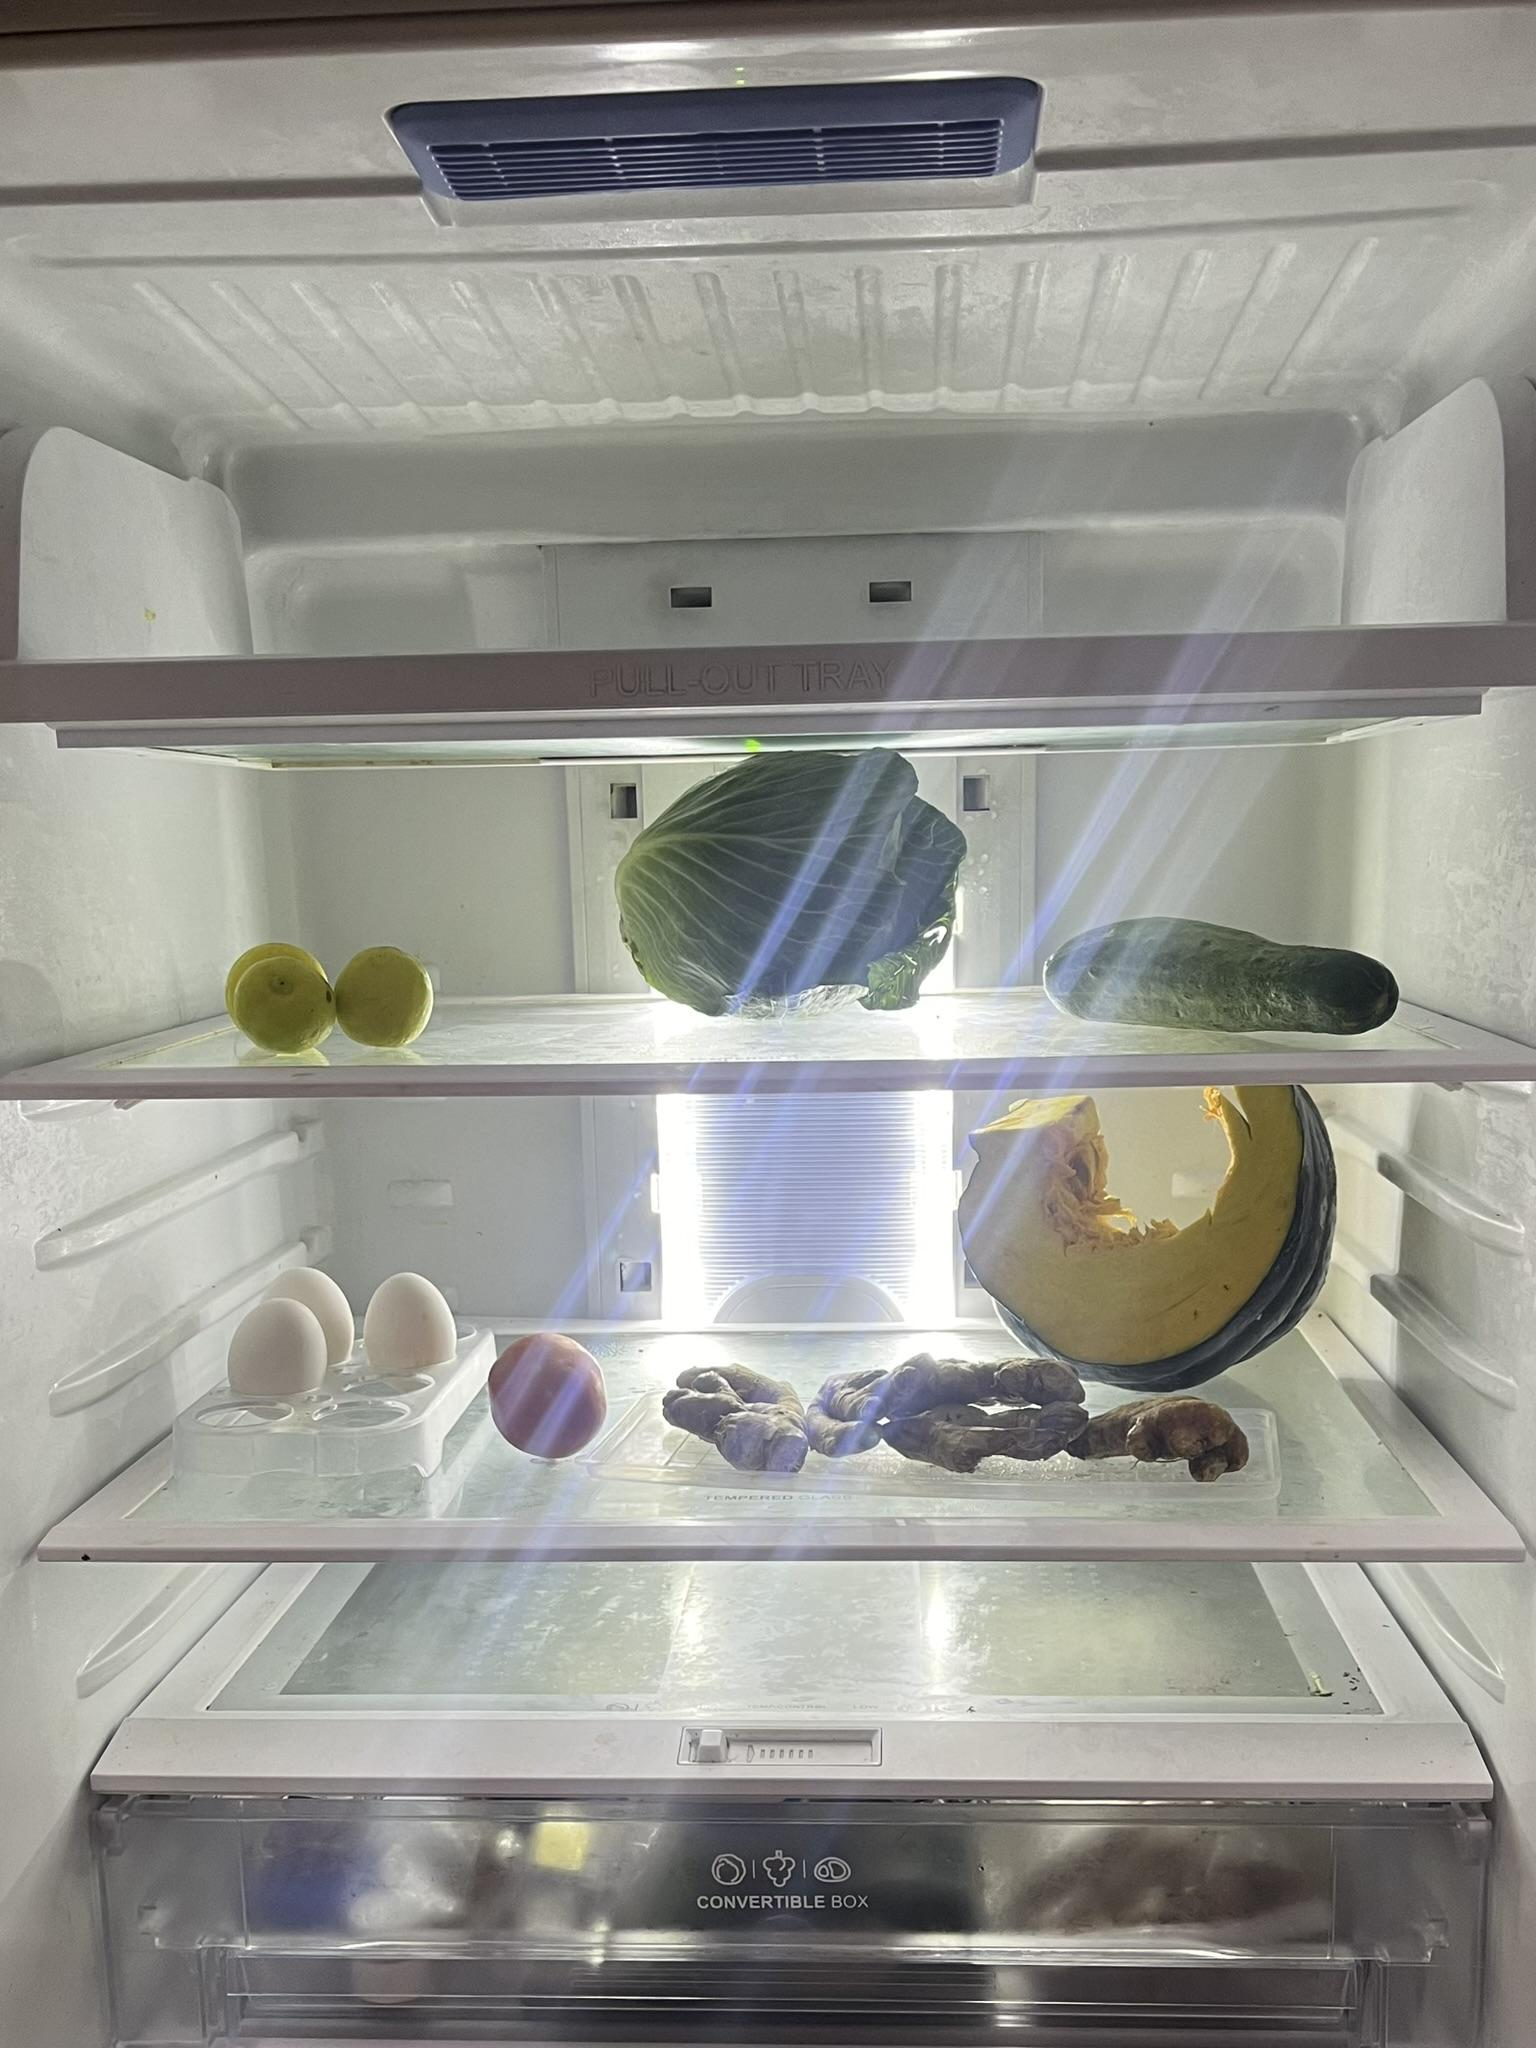cucumber: (1041, 916, 1420, 1037)
egg: (226, 1259, 457, 1403)
ginger: (657, 1356, 1263, 1477)
lemon: (587, 737, 983, 1006), (226, 937, 447, 1053)
pumpkin: (957, 1080, 1344, 1359)
tomato: (470, 1327, 613, 1463)
